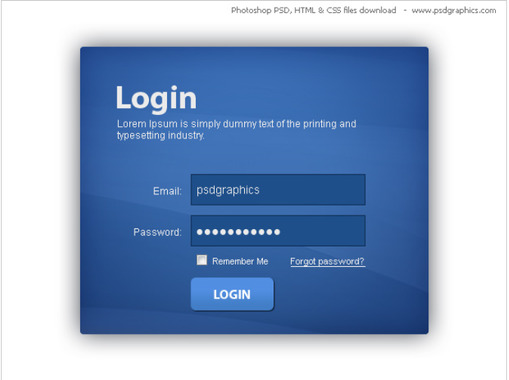_form_: (52, 1, 468, 380)
button: (189, 276, 276, 313)
checkbox: (194, 253, 211, 266)
checkbox_with_label: (192, 252, 267, 268)
field: (188, 173, 369, 207), (188, 214, 367, 248)
field_with_label: (133, 212, 368, 250), (152, 172, 370, 208)
